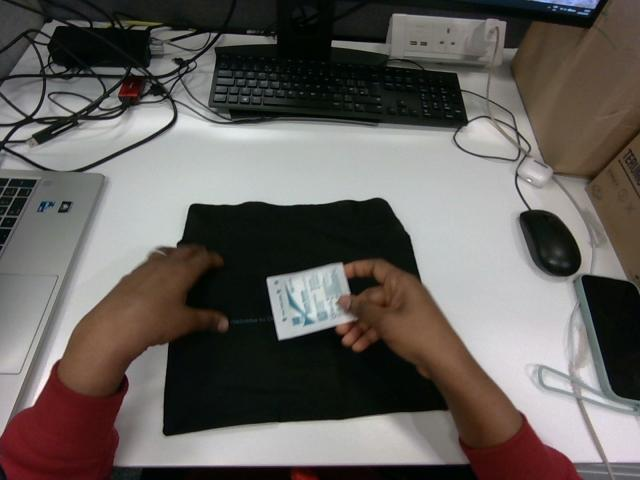gauze: (267, 263, 354, 340)
